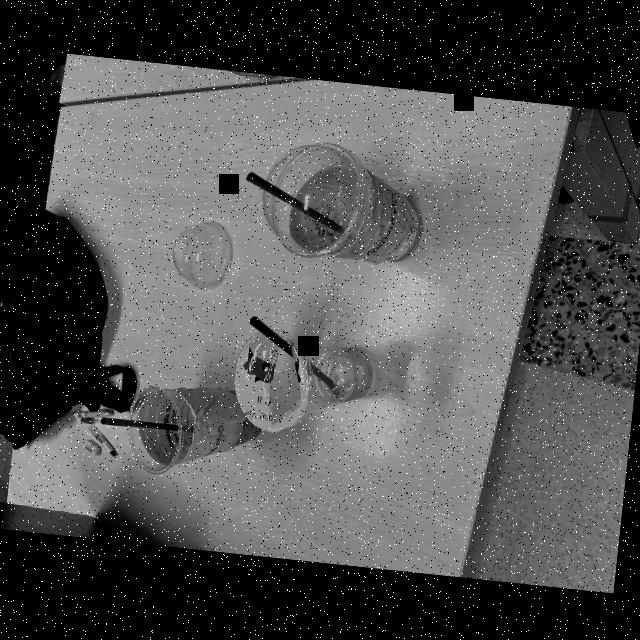plastic_cup: (263, 141, 432, 271), (219, 319, 386, 442), (117, 373, 267, 483)
plastic_cup_lid: (246, 130, 379, 272), (147, 211, 245, 304)
straw: (238, 159, 358, 249), (226, 306, 344, 386), (100, 408, 192, 442)
